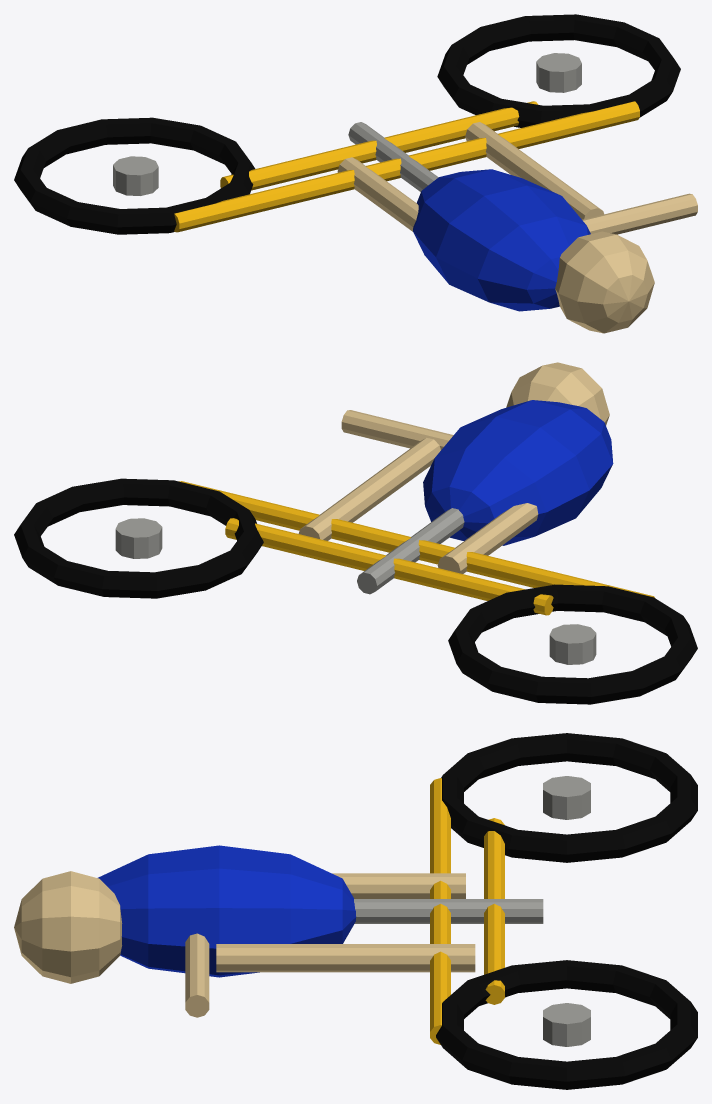
The model's file is biker.obj.
The picture shows the model from 3 angles, top to bottom: view 1: azimuth 30°, elevation 25°; view 2: azimuth 150°, elevation 25°; view 3: azimuth 270°, elevation 25°; orthographic projection. The views are drawn at different scales.
Parts seen in each view (by area): view 1: XYT_generated; view 2: XYT_generated; view 3: XYT_generated.
Boxes of the visible parts, x1,y1,x2,y2 form: XYT_generated: (14, 14, 697, 333); XYT_generated: (14, 362, 697, 704); XYT_generated: (14, 733, 697, 1089).
Bounding box in the file's own units: 2.55 × 0.3804 × 2.16.
